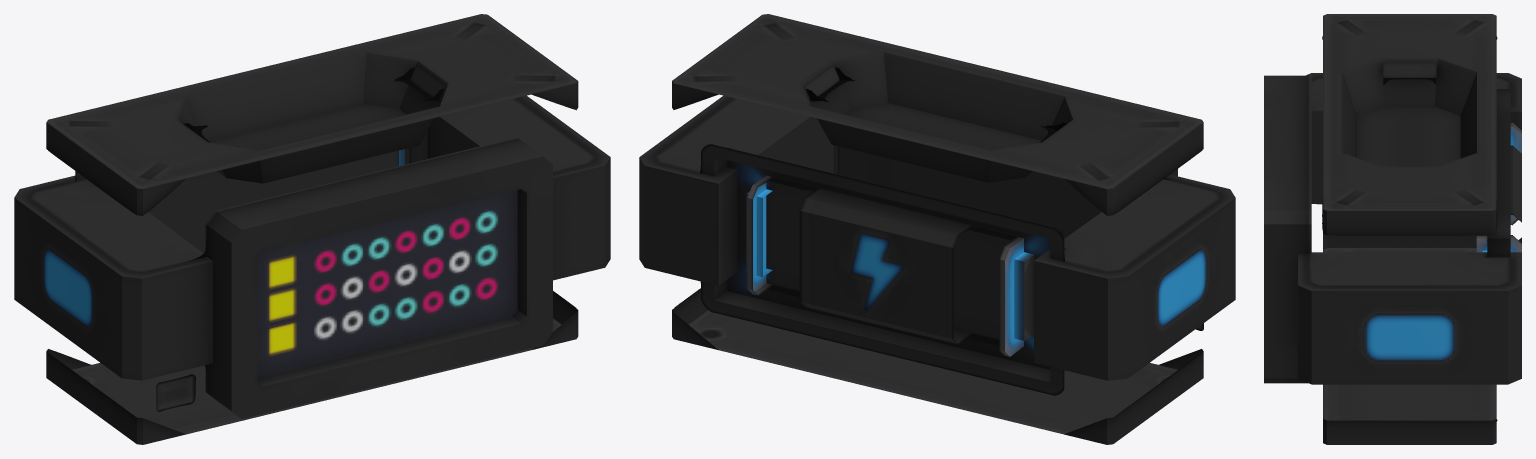
File: obj_interactive_controller_04.fbx
The picture shows the model from 3 angles, left to right: view 1: azimuth 30°, elevation 25°; view 2: azimuth 150°, elevation 25°; view 3: azimuth 270°, elevation 25°; orthographic projection. The views are drawn at different scales.
Parts seen in each view (by area): view 1: obj_interactive_controller_04; view 2: obj_interactive_controller_04; view 3: obj_interactive_controller_04.
Part boxes in pixels (bbox=[...]): obj_interactive_controller_04: bbox=[14, 14, 610, 444]; obj_interactive_controller_04: bbox=[639, 14, 1235, 444]; obj_interactive_controller_04: bbox=[1264, 14, 1521, 444].
Bounding box in the file's own units: 2 × 1 × 0.9991.
